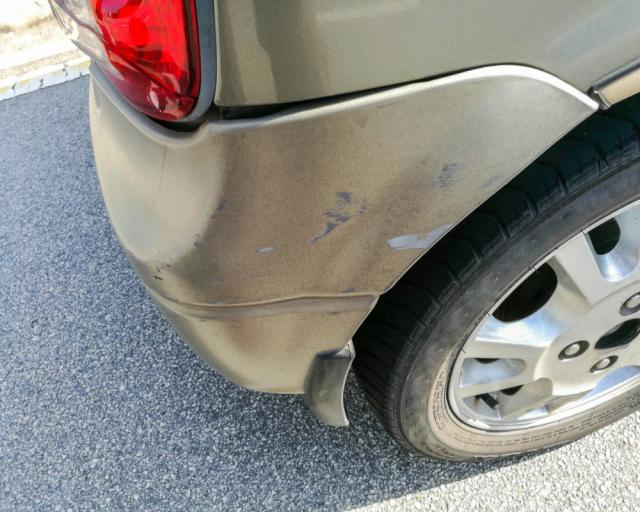scratch: (158, 158, 508, 287)
